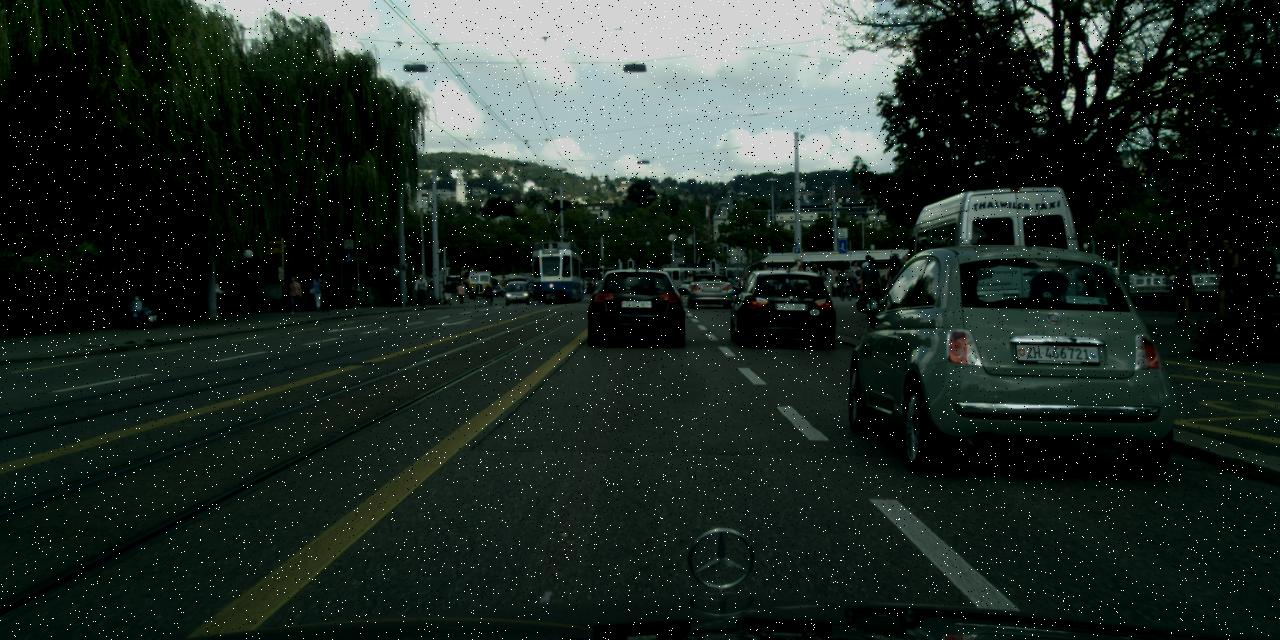ped: (1168, 238, 1204, 325), (1243, 238, 1277, 322), (1211, 238, 1245, 320), (859, 256, 883, 316), (884, 255, 908, 313), (858, 254, 877, 300), (848, 260, 864, 298), (286, 276, 301, 314), (808, 263, 823, 299), (310, 275, 324, 311), (317, 275, 331, 311), (822, 264, 834, 296), (760, 263, 771, 291), (416, 275, 426, 304), (752, 268, 762, 290), (443, 282, 451, 304), (456, 283, 464, 303), (484, 283, 492, 301)
